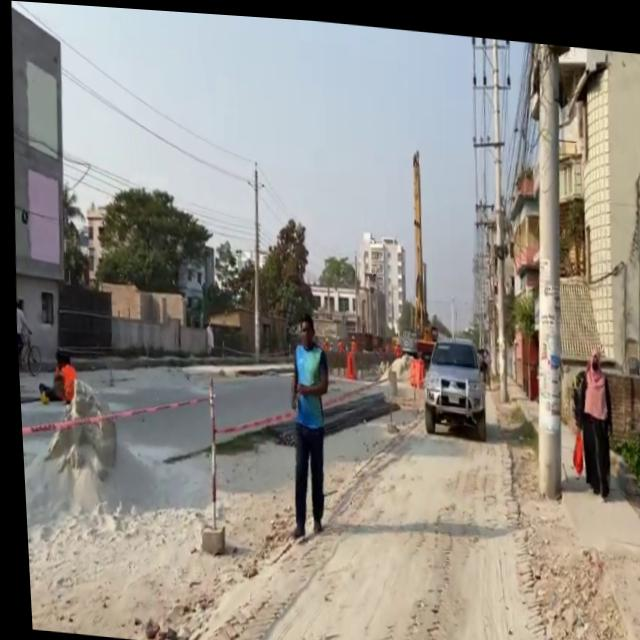Animal: (31, 372, 117, 517)
Broken-road: (402, 343, 501, 445)
Construction-barrier: (479, 381, 553, 640), (261, 373, 389, 450), (175, 346, 292, 385)
Fallen-tree: (13, 327, 38, 376)
Garbage: (186, 372, 226, 553), (193, 520, 220, 552)
Garbage-bin: (277, 305, 333, 536), (562, 335, 613, 494), (12, 297, 31, 371)
Light-pole: (505, 33, 589, 512)
Pothole: (490, 372, 640, 640)
Traffic-cone: (387, 142, 442, 354)
